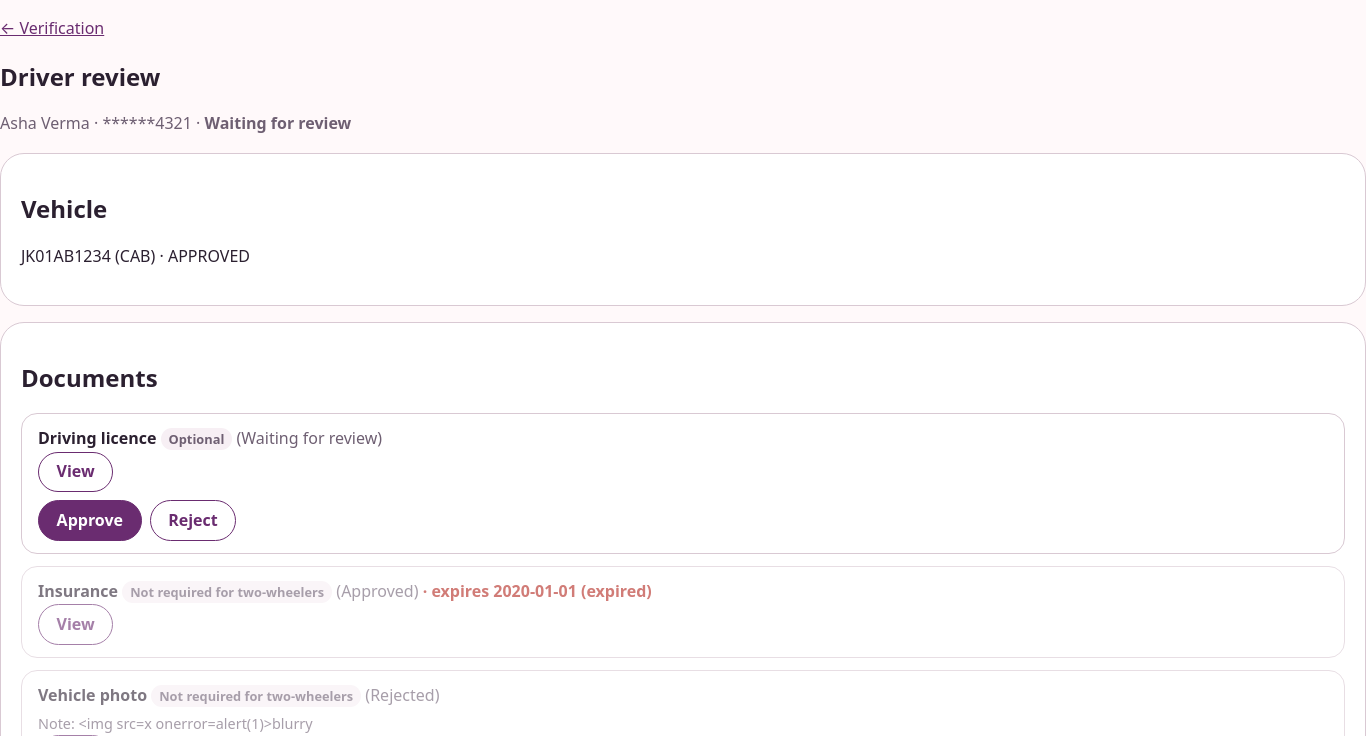
DriverReview › fetches a watermarked derivative URL and renders it only after "View" is clicked
The image size is (1366, 736).
What coordinates should you click on to do the following:
click the button "View " below "Driving licence"
I would click on:
 (76, 472)
Its box is [38, 452, 113, 492].
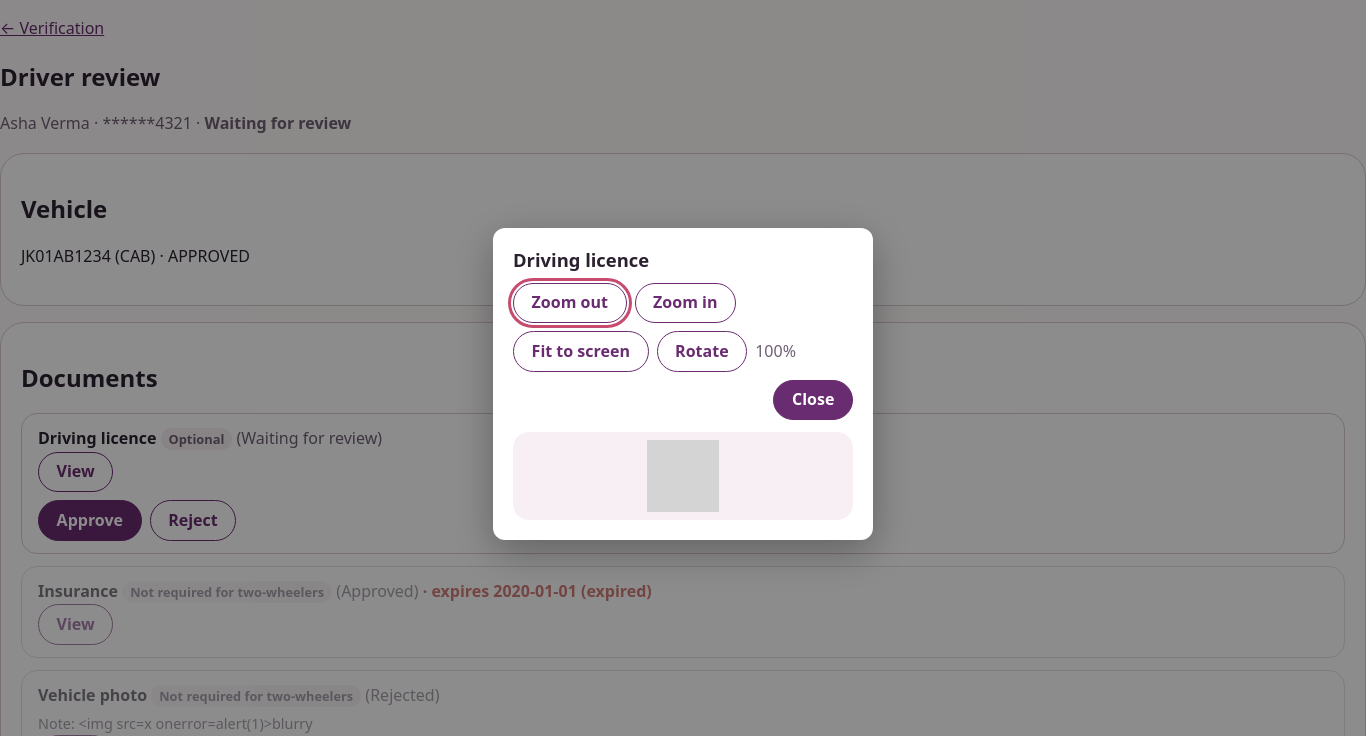
expect the dialog "Driving licence" is shown: met, box [493, 228, 873, 540]
